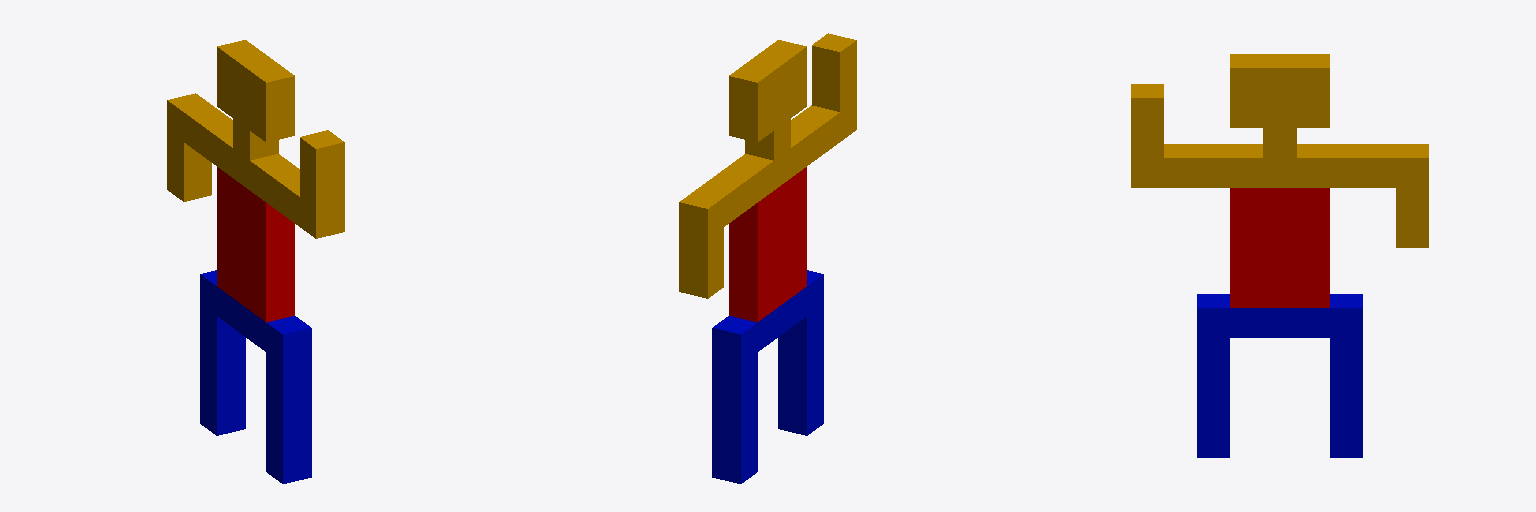
File: blocky_robot_colored.obj
The picture shows the model from 3 angles: view 1: azimuth 30°, elevation 25°; view 2: azimuth 150°, elevation 25°; view 3: azimuth 270°, elevation 25°; orthographic projection.
Visible parts, largest first — view 1: Cube.021_Cube.022, Cube.038_Cube.039, Cube.043_Cube.044, Cube.004_Cube.005, Cube.005_Cube.006, Cube.008_Cube.009, Cube.002, Cube.003, Cube.001, Cube.006_Cube.007, Cube.033_Cube.034, Cube.044_Cube.045 (+19 smaller); view 2: Cube.009_Cube.010, Cube.031_Cube.032, Cube.038_Cube.039, Cube.042_Cube.043, Cube.003, Cube.006_Cube.007, Cube.007_Cube.008, Cube.001, Cube.004_Cube.005, Cube.002, Cube.005_Cube.006, Cube.045_Cube.046 (+18 smaller); view 3: Cube.041_Cube.042, Cube.026_Cube.027, Cube.028_Cube.029, Cube.029_Cube.030, Cube.030_Cube.031, Cube.031_Cube.032, Cube.034_Cube.035, Cube.035_Cube.036, Cube.038_Cube.039, Cube.042_Cube.043, Cube.043_Cube.044, Cube.009_Cube.010 (+28 smaller).
Boxes of the visible parts, <box> form: Cube.021_Cube.022: <box>266,316,311,364</box>; Cube.038_Cube.039: <box>300,130,344,178</box>; Cube.043_Cube.044: <box>250,64,294,112</box>; Cube.004_Cube.005: <box>200,364,245,405</box>; Cube.005_Cube.006: <box>200,334,245,375</box>; Cube.008_Cube.009: <box>266,353,311,393</box>; Cube.002: <box>266,442,311,483</box>; Cube.003: <box>266,412,311,453</box>; Cube.001: <box>200,394,245,435</box>; Cube.006_Cube.007: <box>266,383,311,423</box>; Cube.033_Cube.034: <box>167,160,211,201</box>; Cube.044_Cube.045: <box>250,101,294,142</box>; Cube.009_Cube.010: <box>712,316,757,364</box>; Cube.031_Cube.032: <box>679,190,723,238</box>; Cube.038_Cube.039: <box>812,33,856,81</box>; Cube.042_Cube.043: <box>729,64,773,112</box>; Cube.003: <box>778,364,823,405</box>; Cube.006_Cube.007: <box>778,334,823,375</box>; Cube.007_Cube.008: <box>712,353,757,393</box>; Cube.001: <box>712,442,757,483</box>; Cube.004_Cube.005: <box>712,412,757,453</box>; Cube.002: <box>778,394,823,435</box>; Cube.005_Cube.006: <box>712,383,757,423</box>; Cube.045_Cube.046: <box>729,101,773,142</box>; Cube.041_Cube.042: <box>1263,54,1296,97</box>; Cube.026_Cube.027: <box>1230,144,1262,187</box>; Cube.028_Cube.029: <box>1297,144,1329,187</box>; Cube.029_Cube.030: <box>1330,144,1362,187</box>; Cube.030_Cube.031: <box>1363,144,1395,187</box>; Cube.031_Cube.032: <box>1396,144,1428,187</box>; Cube.034_Cube.035: <box>1197,144,1229,187</box>; Cube.035_Cube.036: <box>1164,144,1196,187</box>; Cube.038_Cube.039: <box>1131,84,1163,127</box>; Cube.042_Cube.043: <box>1297,54,1329,97</box>; Cube.043_Cube.044: <box>1230,54,1262,97</box>; Cube.009_Cube.010: <box>1330,294,1362,337</box>.
Bounding box in the file's own units: 2 × 26 × 18.